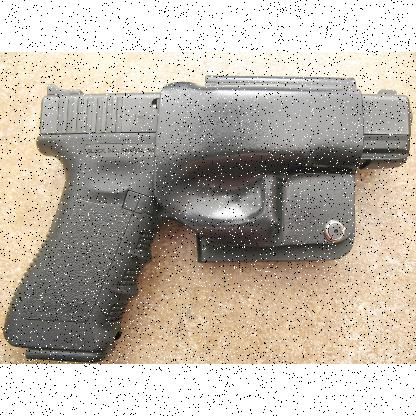gun: (3, 75, 412, 362)
